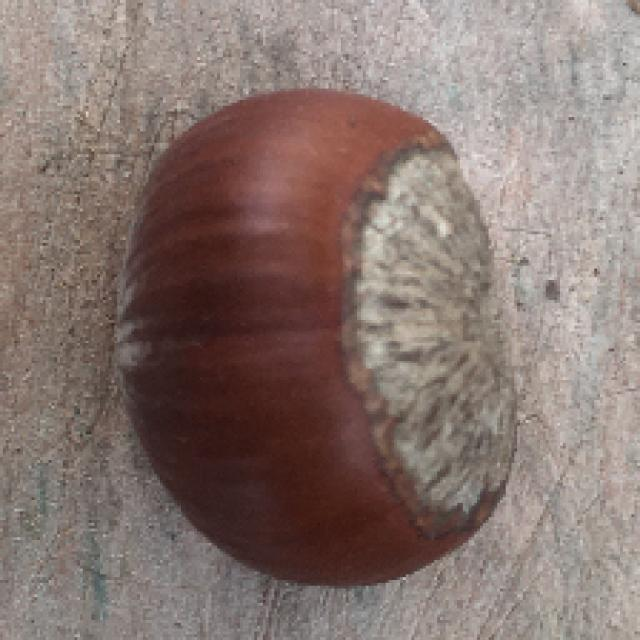damagedHazelnut: (110, 80, 518, 587)
